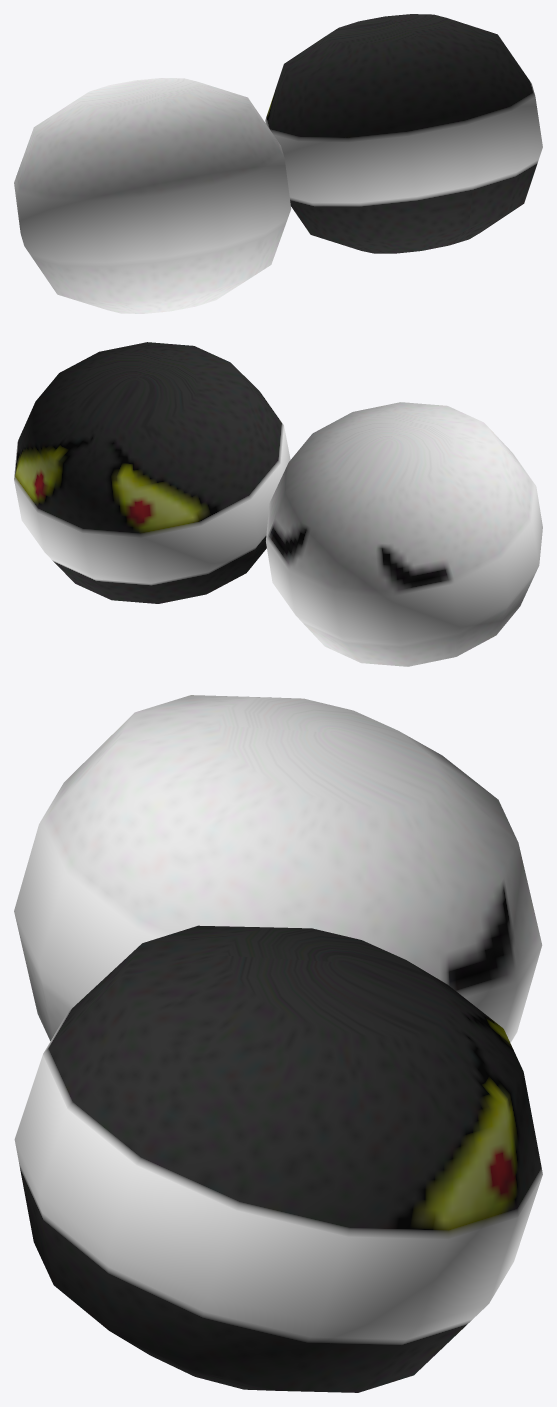
Rendered from remove.ico.obj.
3 views of the same model, one above another, from view 1: azimuth 30°, elevation 25°; view 2: azimuth 150°, elevation 25°; view 3: azimuth 270°, elevation 25° (orthographic). The views are drawn at different scales.
Bounding box in the file's own units: 4.85 × 2.07 × 2.43.
Materials: 1 (1 with a texture image).
